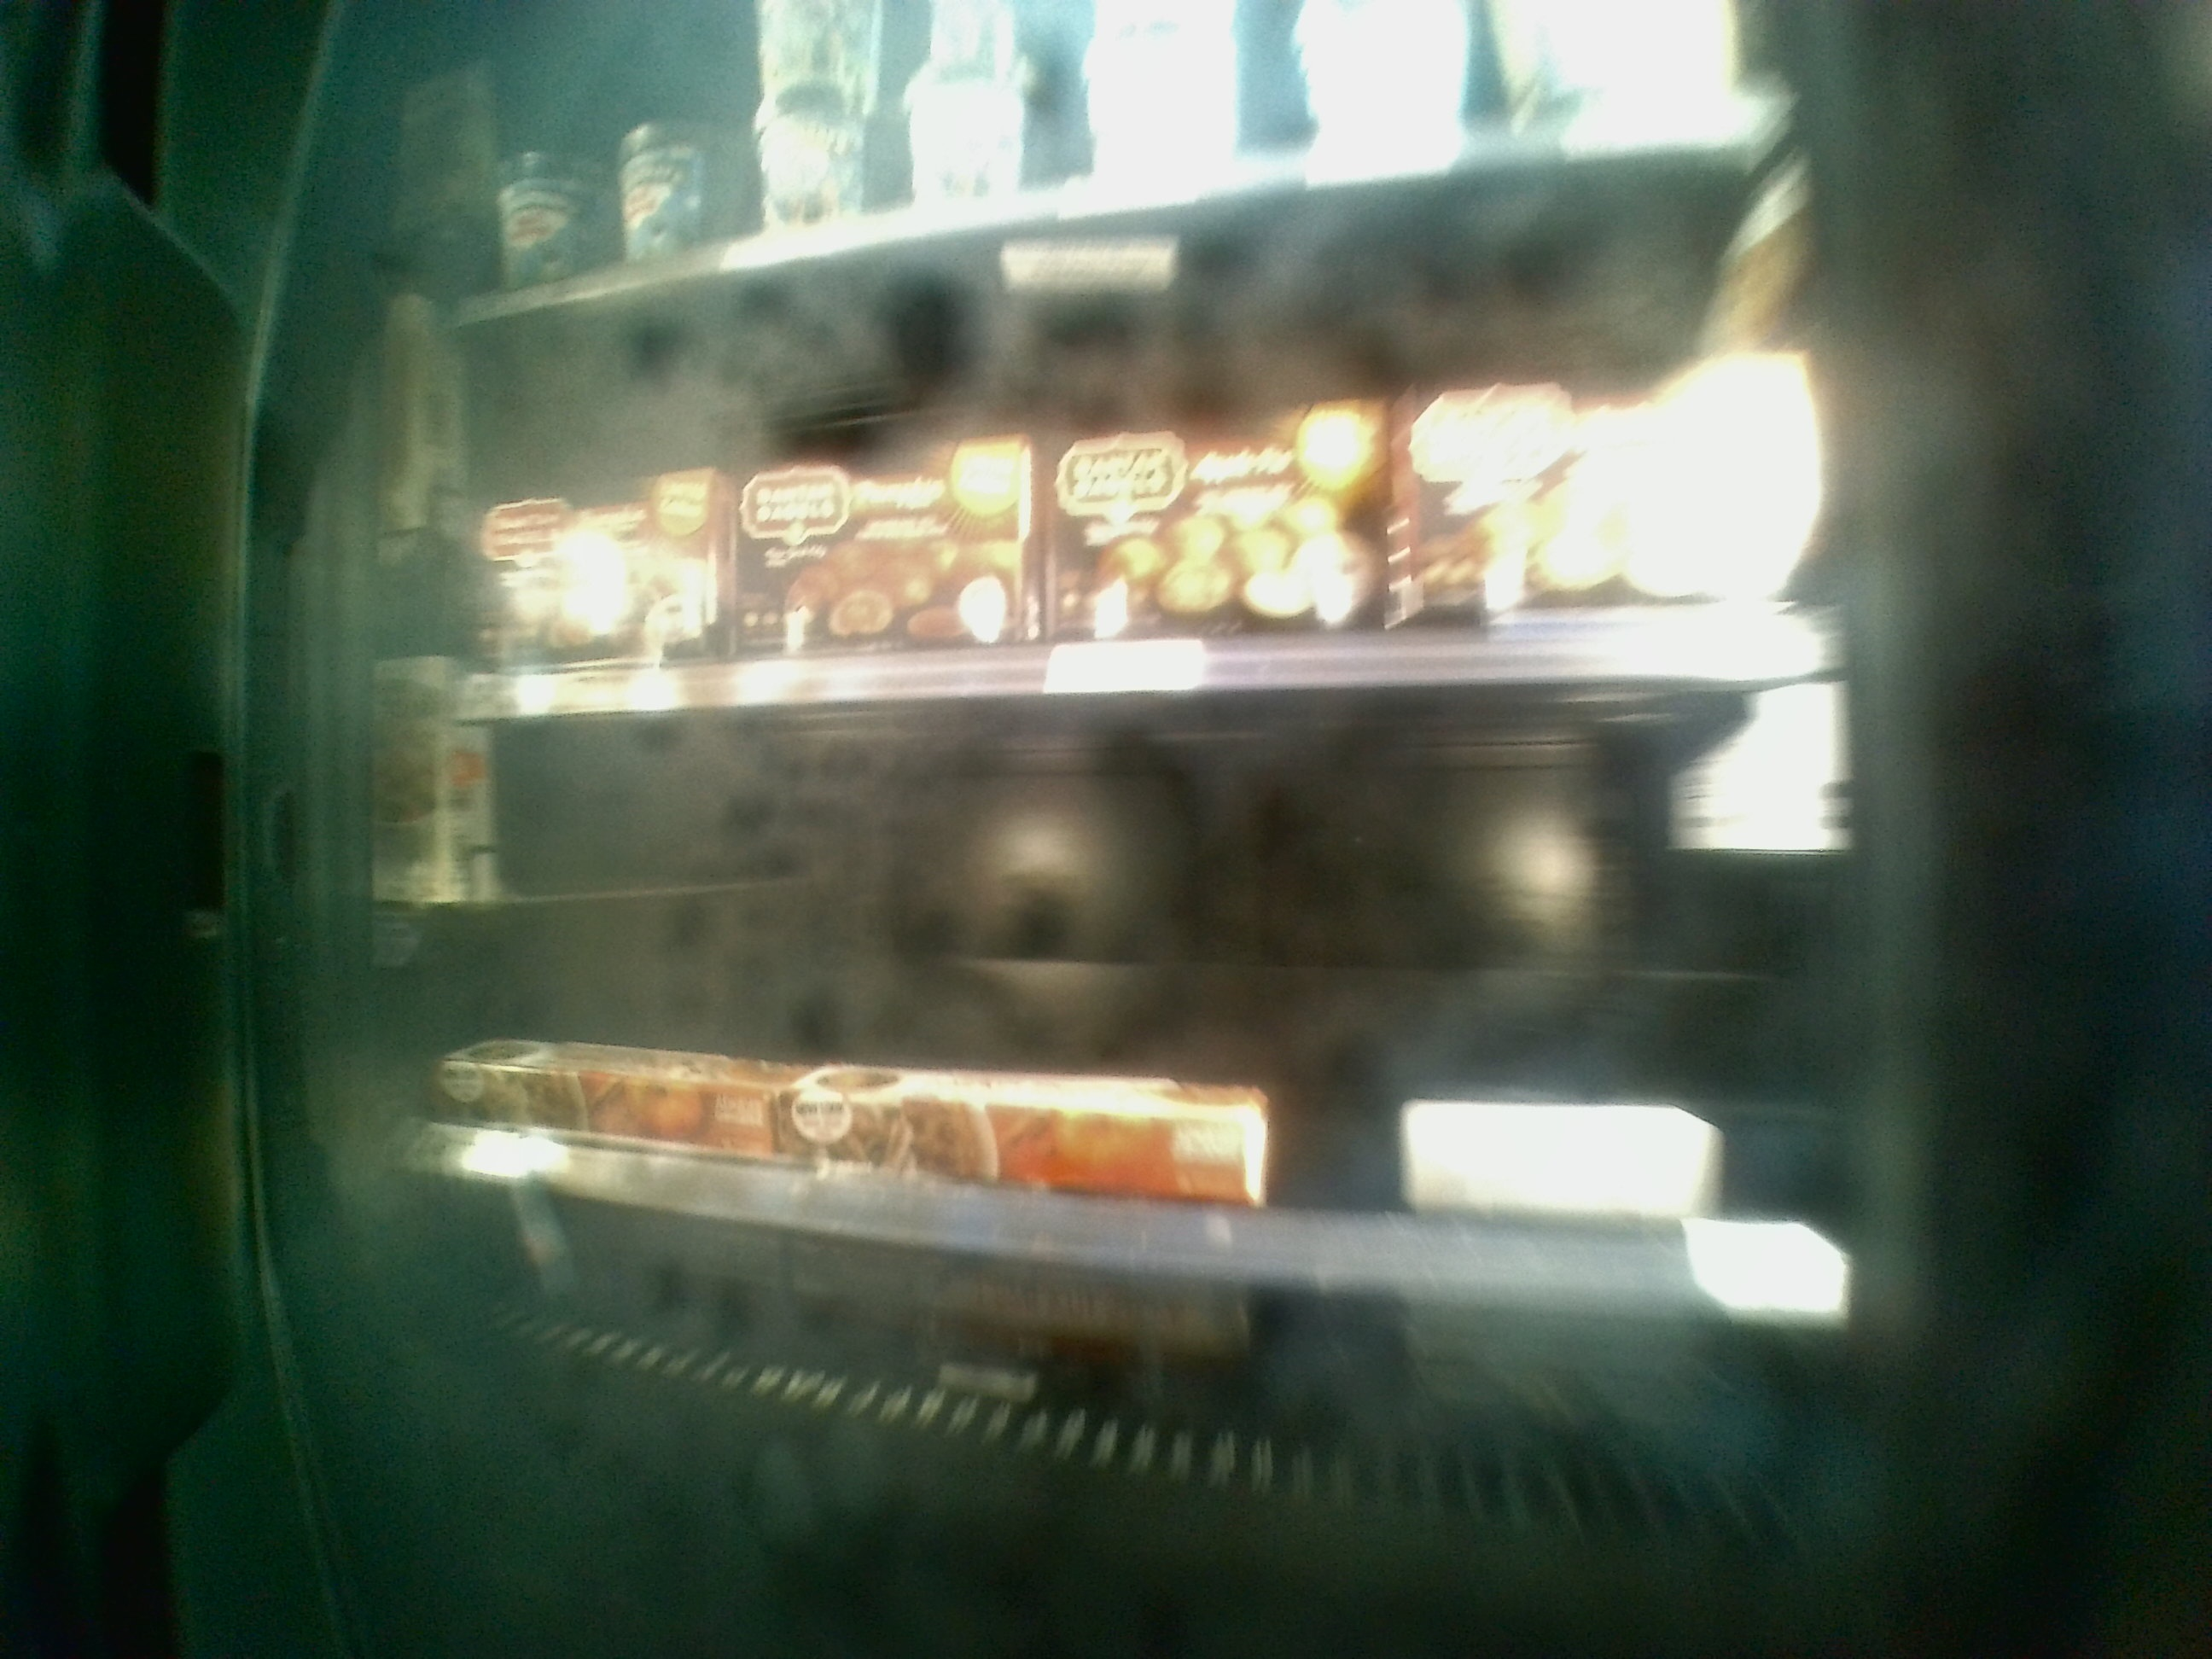shelf: (350, 690, 1886, 1290), (350, 279, 1935, 694)
